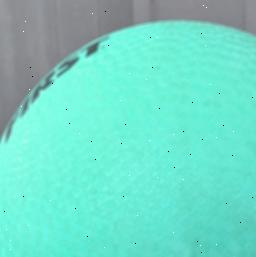algae: (0, 16, 256, 257)
